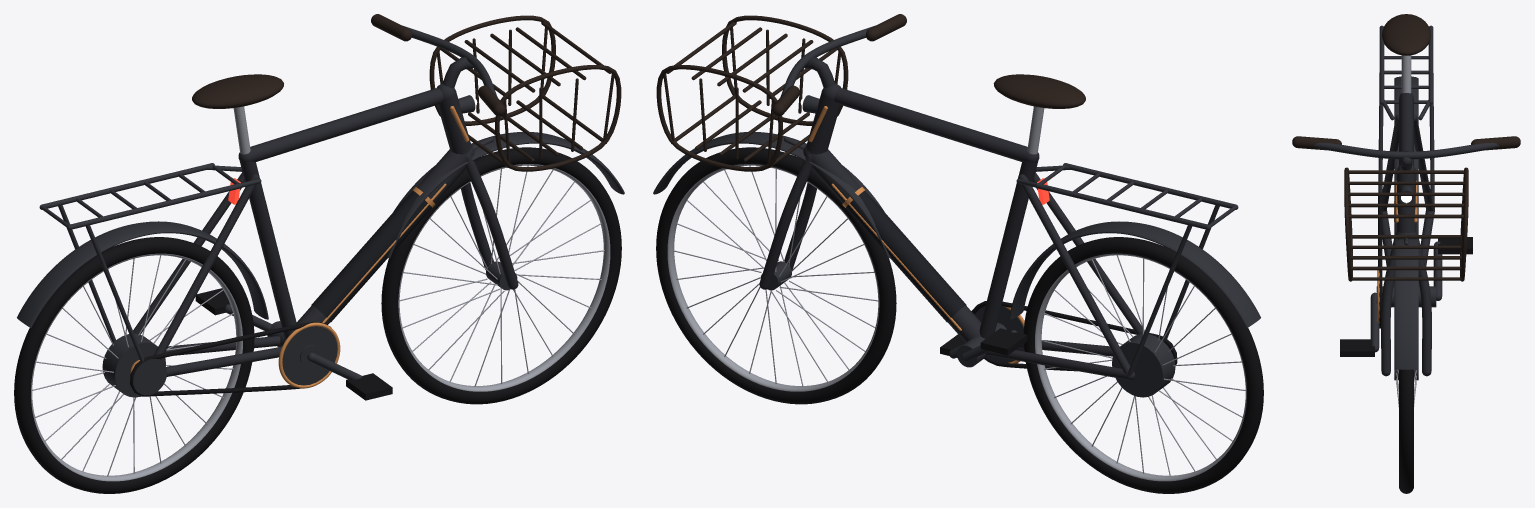
Rendered from vela.glb.
3 views of the same model, side by side, from view 1: azimuth 30°, elevation 25°; view 2: azimuth 150°, elevation 25°; view 3: azimuth 270°, elevation 25° (orthographic). The views are drawn at different scales.
Visible parts, largest first — view 1: Bike, Basket, Rack; view 2: Bike, Basket, Rack; view 3: Bike, Basket, Rack.
Part boxes in pixels (x1,y1,x2,y2): Bike: (14,14,624,493); Basket: (429,15,621,171); Rack: (39,163,261,361); Bike: (653,14,1263,493); Basket: (656,15,848,171); Rack: (1016,163,1238,377); Bike: (1292,14,1520,493); Basket: (1344,167,1468,281); Rack: (1378,25,1434,210).
Size of the model in its own units: 1.78 by 1.07 by 0.6523.
